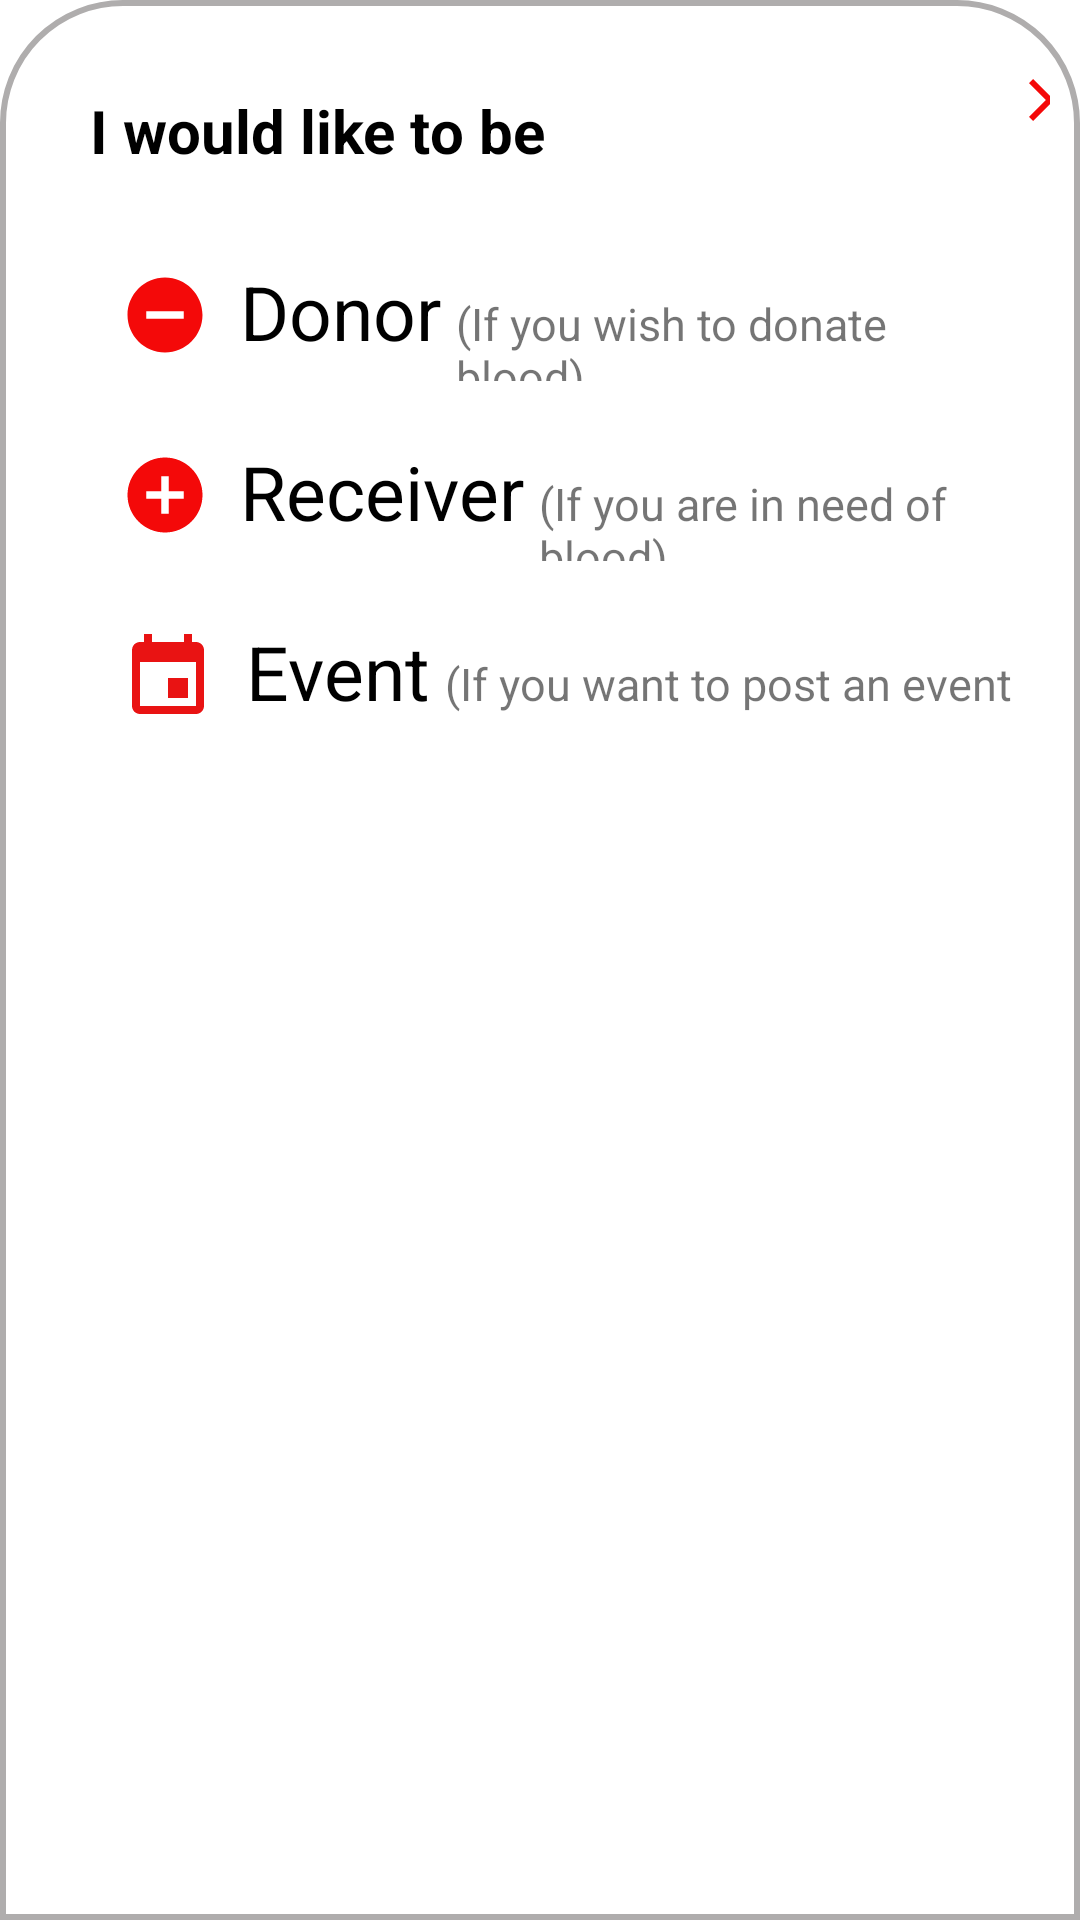

Icons on this 1080x1920 Android screen, each with the point to tap as (x=x, y=y):
add: (x=165, y=495)
